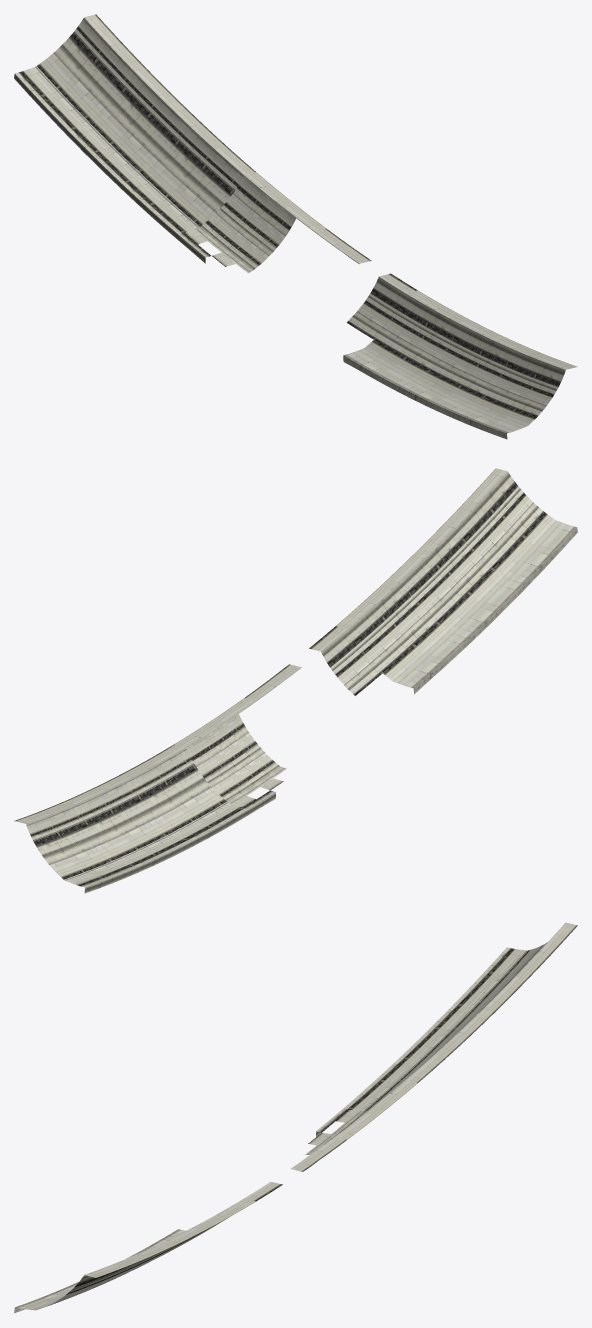
File: STA20_largeside01.FBX
3 renders of one model, top to bottom at view 1: azimuth 30°, elevation 25°; view 2: azimuth 150°, elevation 25°; view 3: azimuth 330°, elevation 25°, orthographic.
Visible parts, largest first — view 1: STA20_largeside01; view 2: STA20_largeside01; view 3: STA20_largeside01.
Part boxes in pixels (x1,y1,x2,y2): STA20_largeside01: (14,14,577,439); STA20_largeside01: (14,468,577,893); STA20_largeside01: (14,922,577,1313).
Bounding box in the file's own units: 129 × 153 × 1443.
